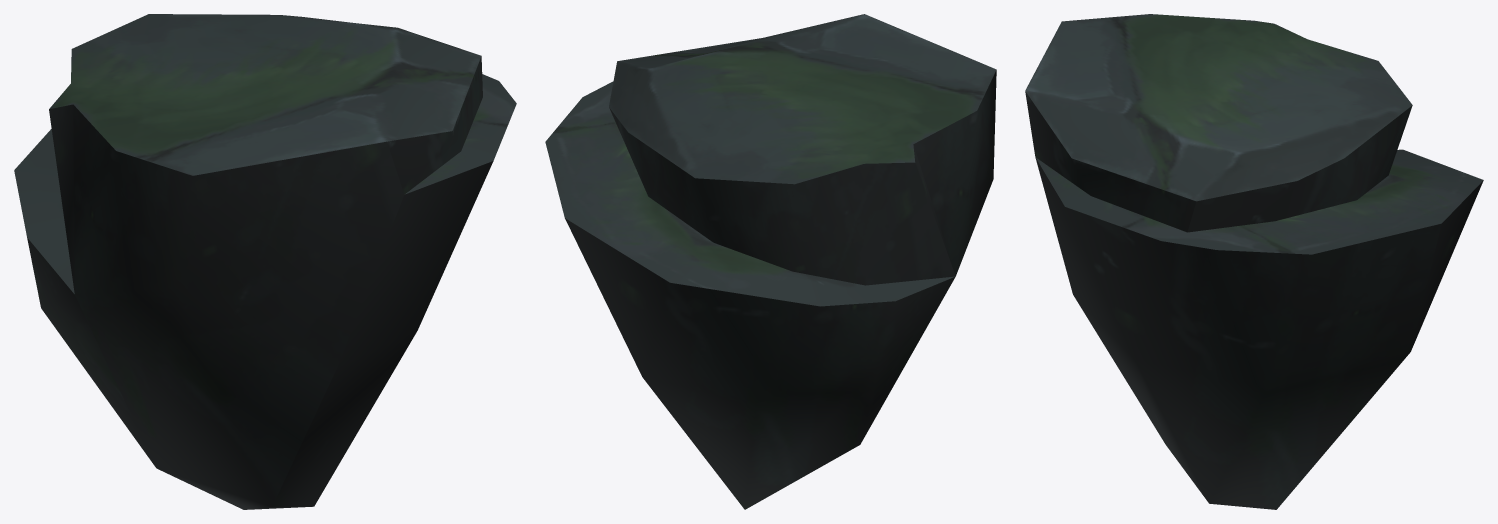
Rendered from zhucheng_stone_03.FBX.
The picture shows the model from 3 angles, left to right: view 1: azimuth 30°, elevation 25°; view 2: azimuth 150°, elevation 25°; view 3: azimuth 270°, elevation 25°; orthographic projection. The views are drawn at different scales.
Visible parts, largest first — view 1: zhucheng_stone_03; view 2: zhucheng_stone_03; view 3: zhucheng_stone_03.
Boxes of the visible parts, <box> form: zhucheng_stone_03: <box>14,14,516,509</box>; zhucheng_stone_03: <box>545,14,996,509</box>; zhucheng_stone_03: <box>1025,14,1483,509</box>.
Bounding box in the file's own units: 2960 × 3110 × 3077.
